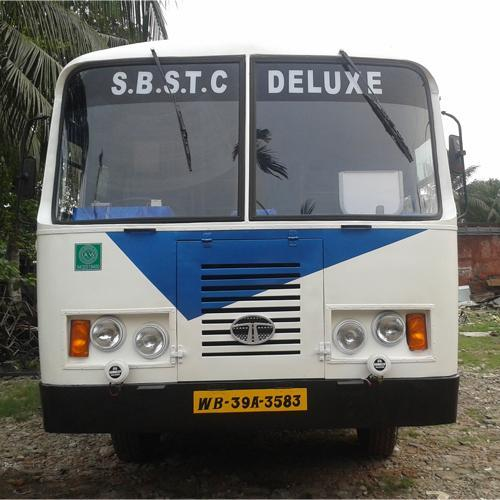Bus: (35, 43, 463, 464)
